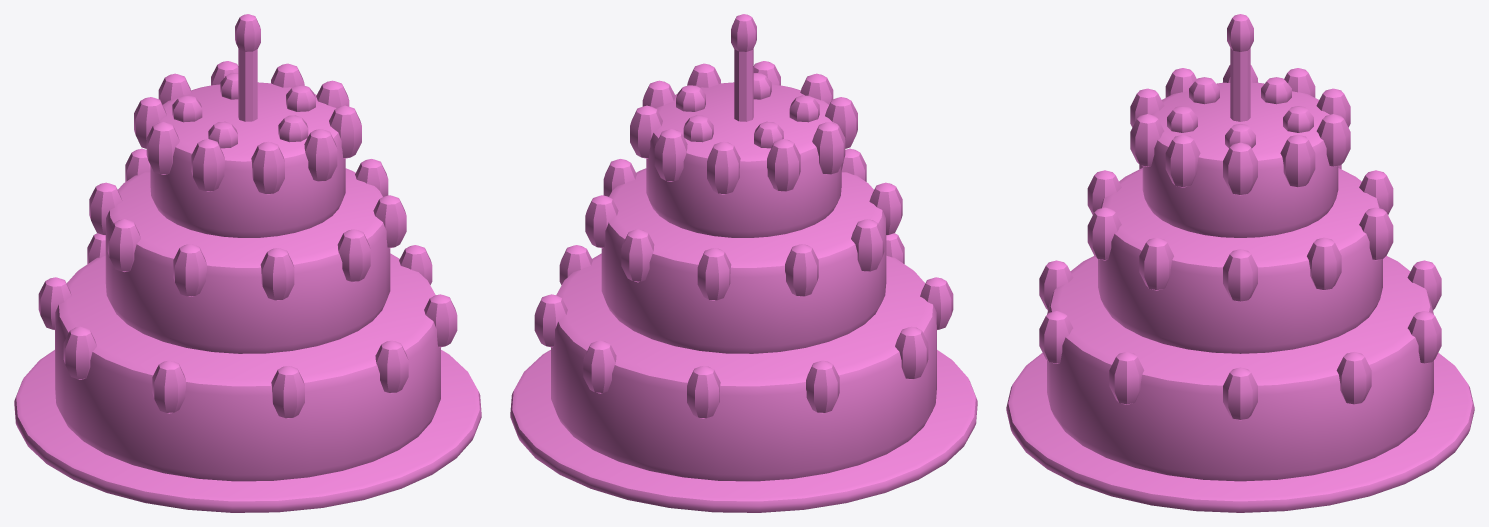
The model's file is Parcel_Cake.fbx.
3 views of the same model, side by side, from view 1: azimuth 30°, elevation 25°; view 2: azimuth 150°, elevation 25°; view 3: azimuth 270°, elevation 25° (orthographic).
Visible parts, largest first — view 1: Parcel; view 2: Parcel; view 3: Parcel.
Part boxes in pixels (left/top/right/bottom): Parcel: left=14, top=14, right=481, bottom=512; Parcel: left=510, top=14, right=977, bottom=512; Parcel: left=1006, top=14, right=1474, bottom=512.
Bounding box in the file's own units: 2.3 × 2.18 × 2.3.
Materials: 1 (1 with a texture image).
